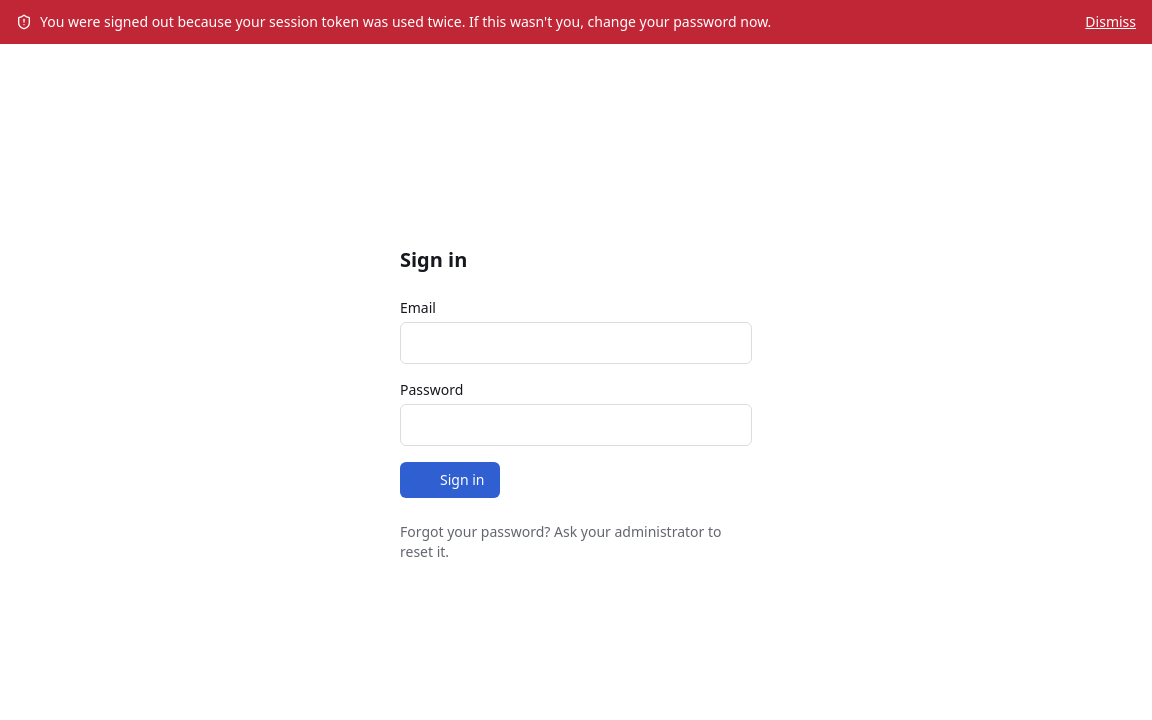
Test: renders the security banner when revoked, and Dismiss acknowledges it
Expected: the message shows "signed out because your session token was used twice", x1=40 y1=12 x2=771 y2=31
What coordinates should you click on to do the following:
click the button "Dismiss"
I would click on:
 (1111, 22)
Its box is x1=1085 y1=12 x2=1136 y2=32.
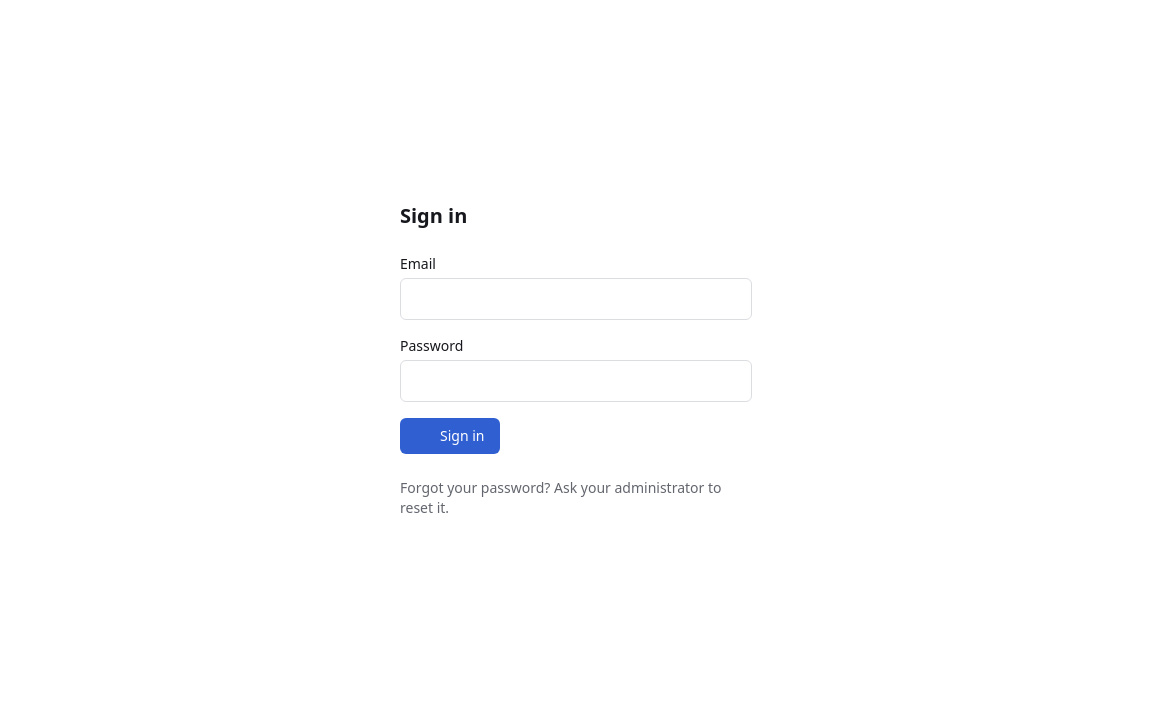
Result: the message is gone
